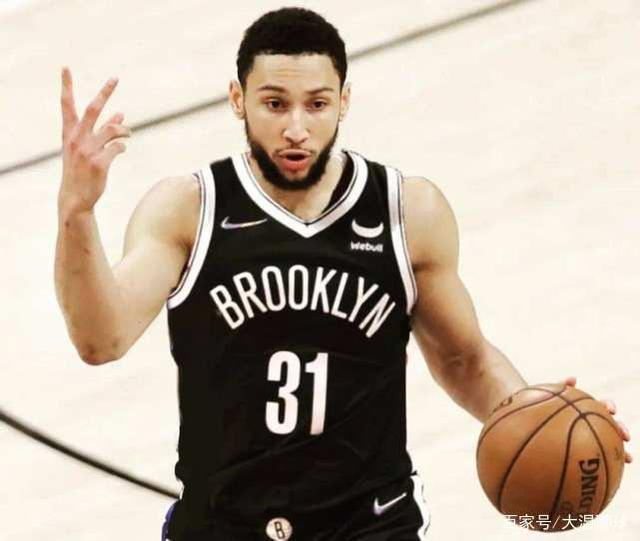no-phone: (51, 59, 135, 211)
